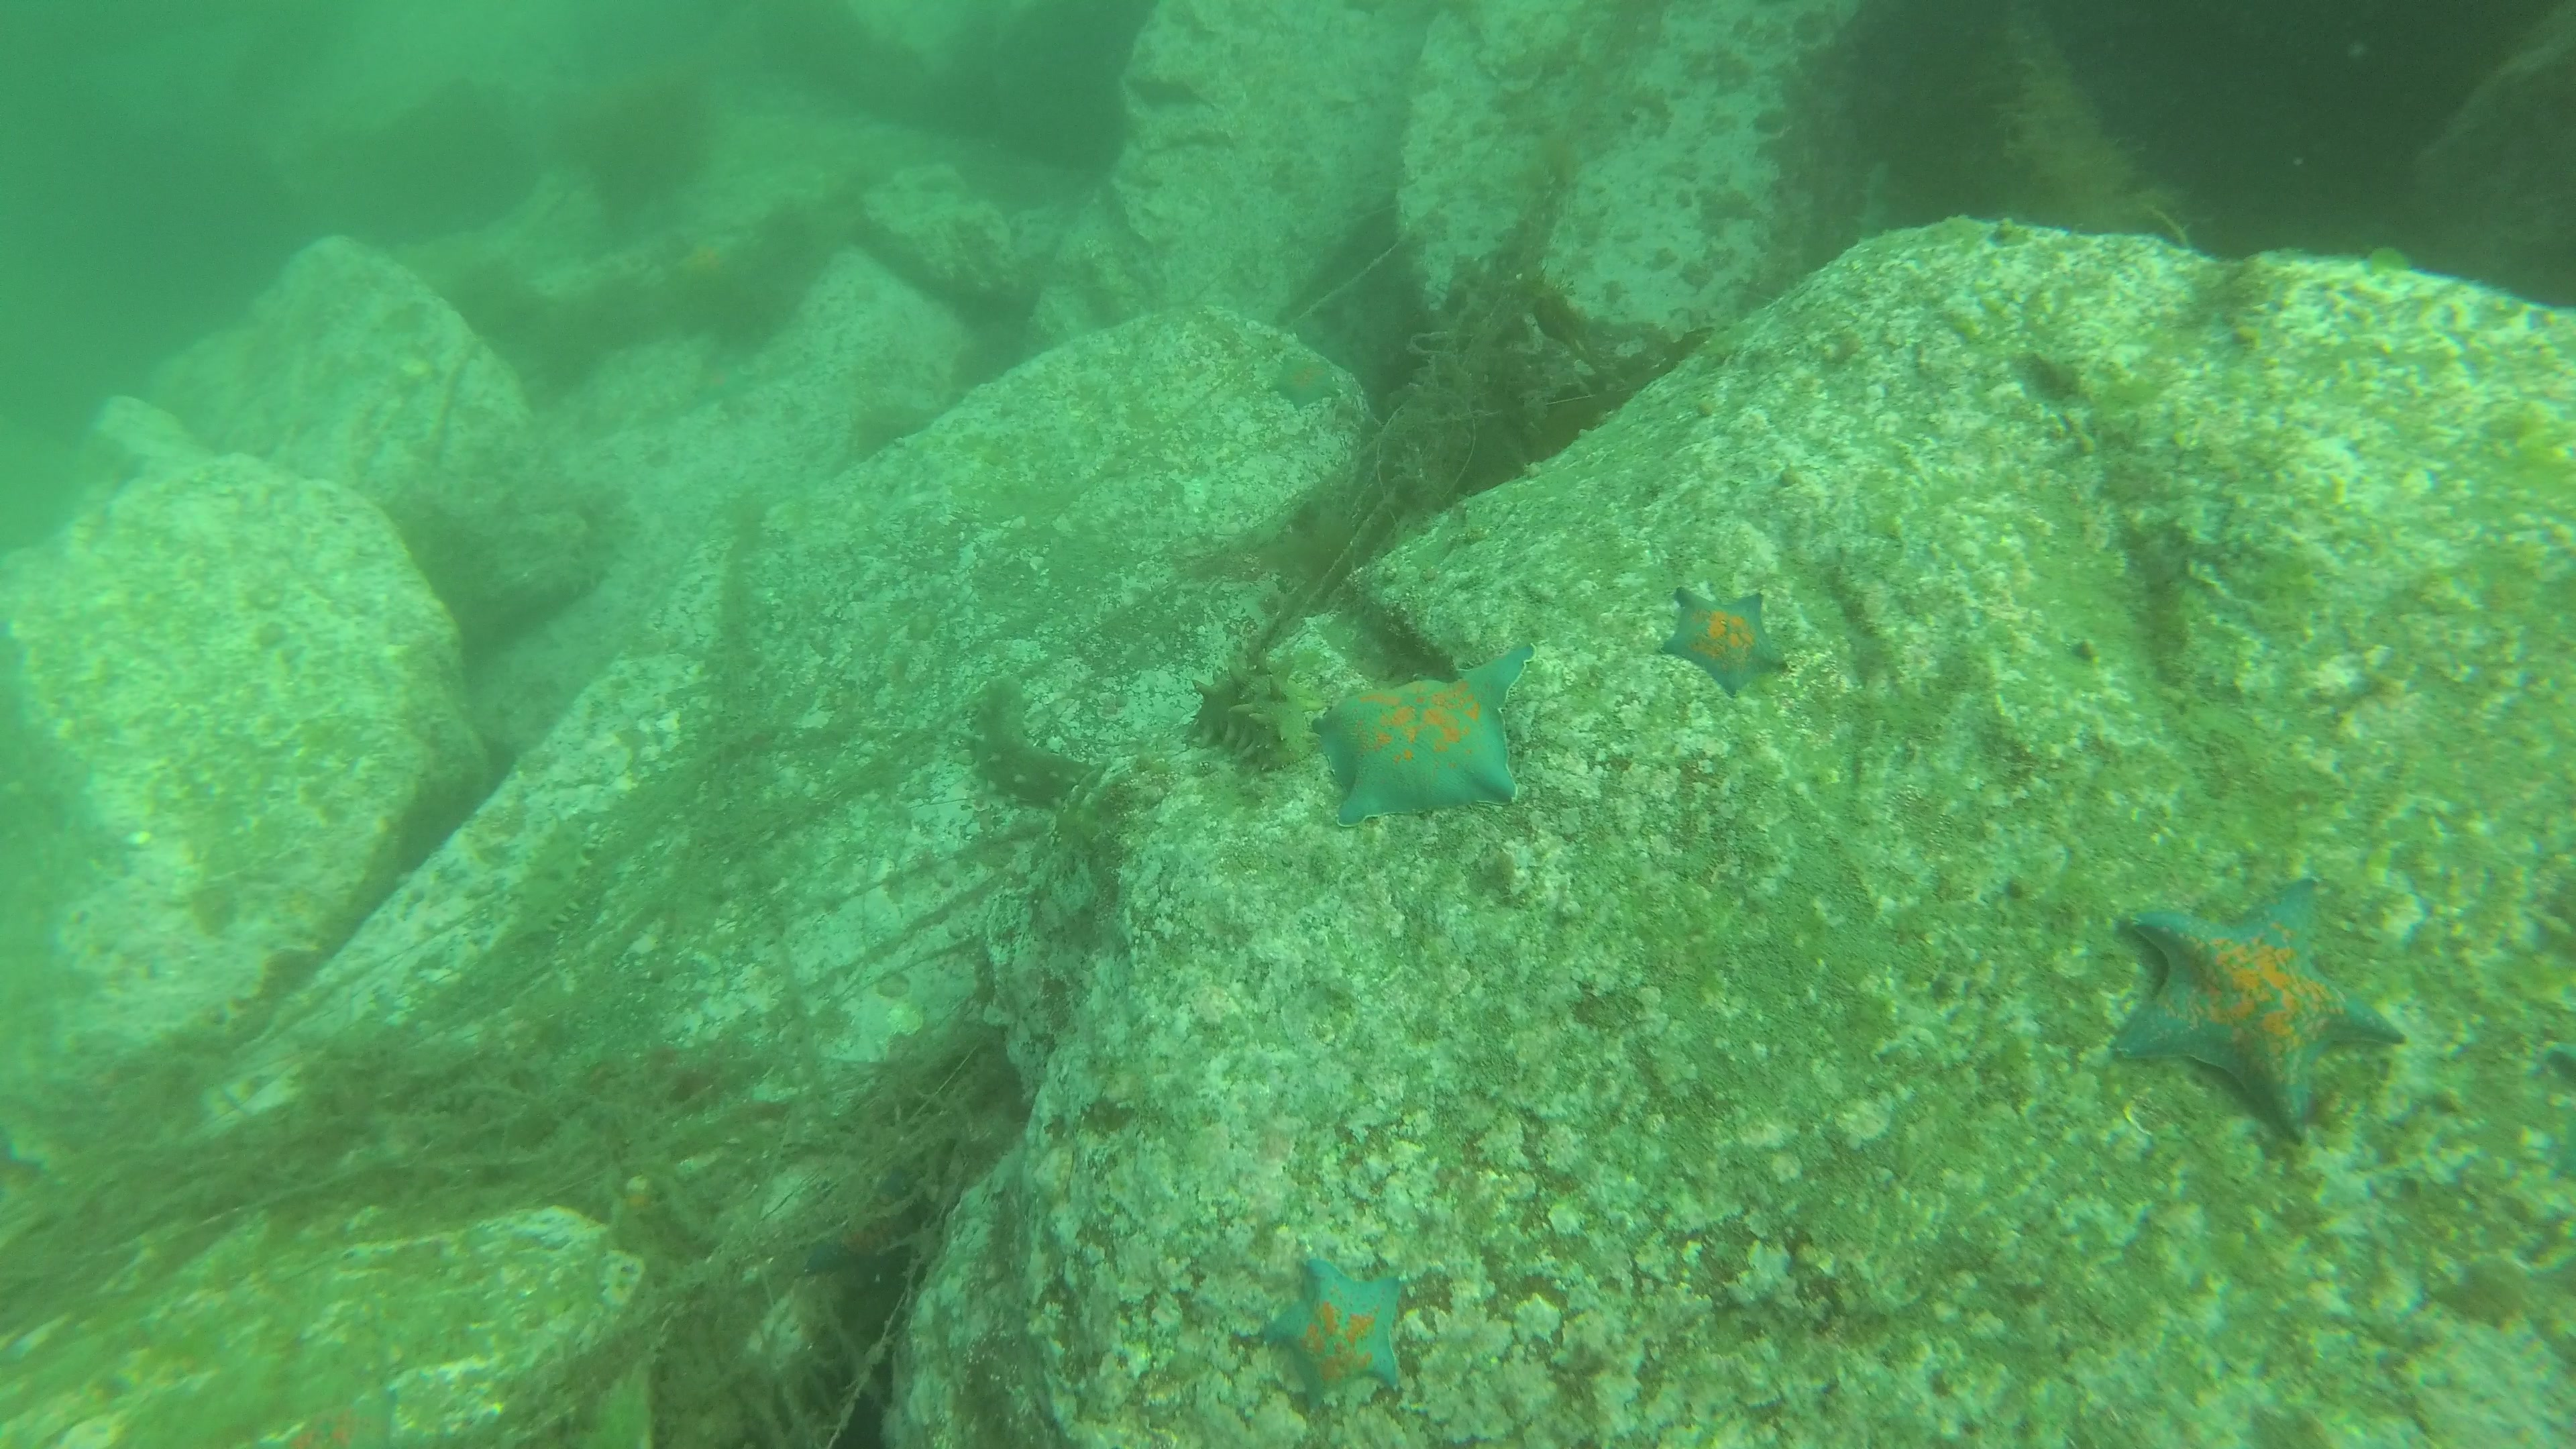echinus: (568, 85, 718, 205)
holothurian: (957, 672, 1102, 817), (1182, 653, 1330, 777), (513, 805, 610, 945)
starfish: (2118, 863, 2408, 1152), (1311, 633, 1543, 824), (1263, 1258, 1417, 1410), (1661, 579, 1794, 695), (667, 230, 754, 287)
